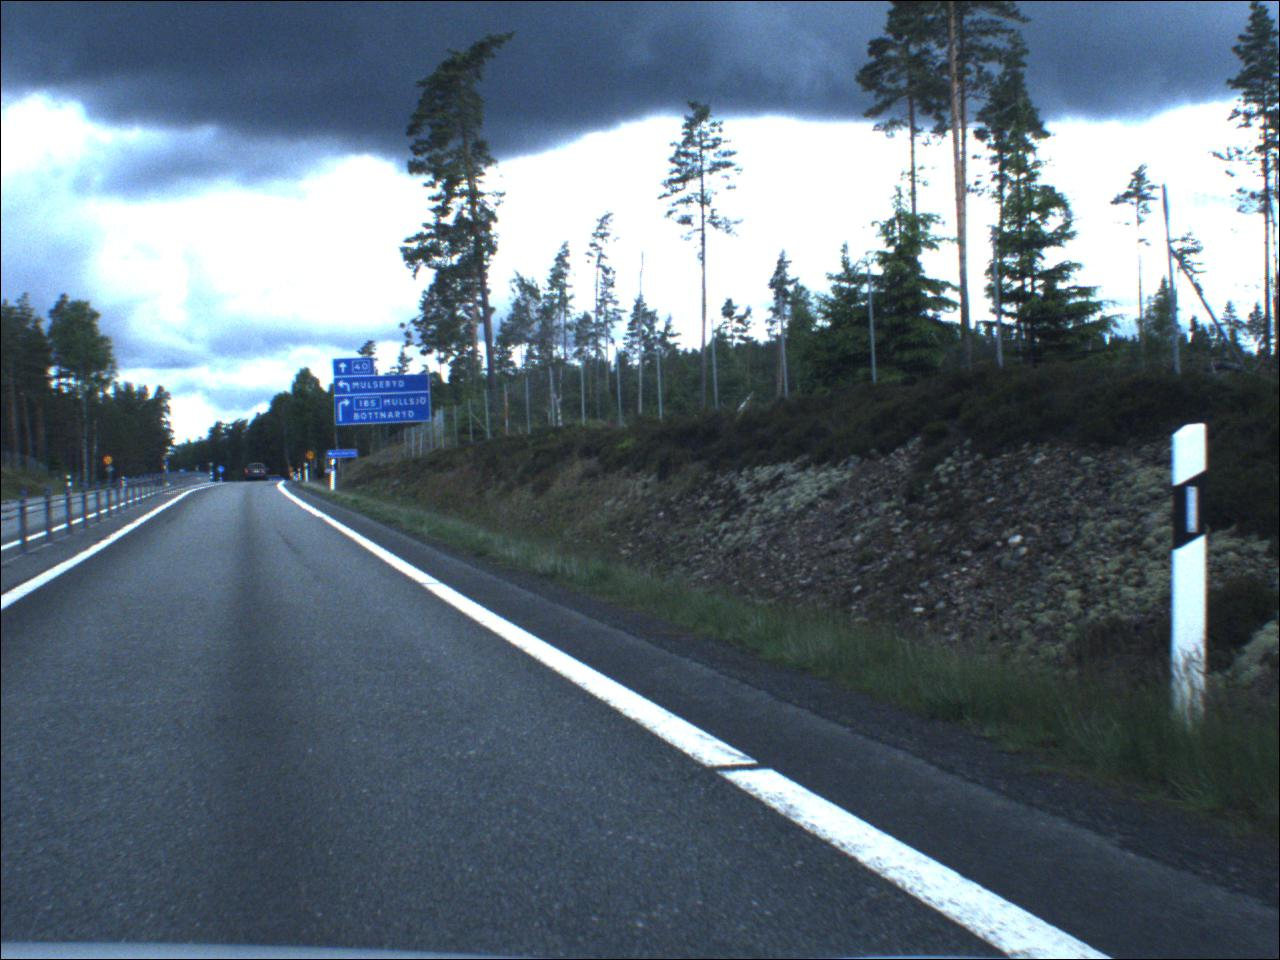70_SIGN: (307, 452, 318, 463), (105, 457, 116, 468)
PASS_RIGHT_SIDE: (219, 466, 228, 476)
